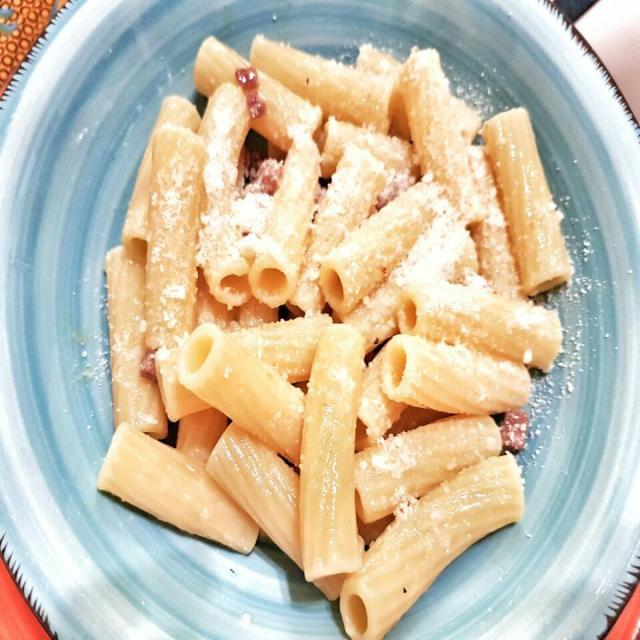Pasta with carbonara sauce: (77, 12, 593, 624)
